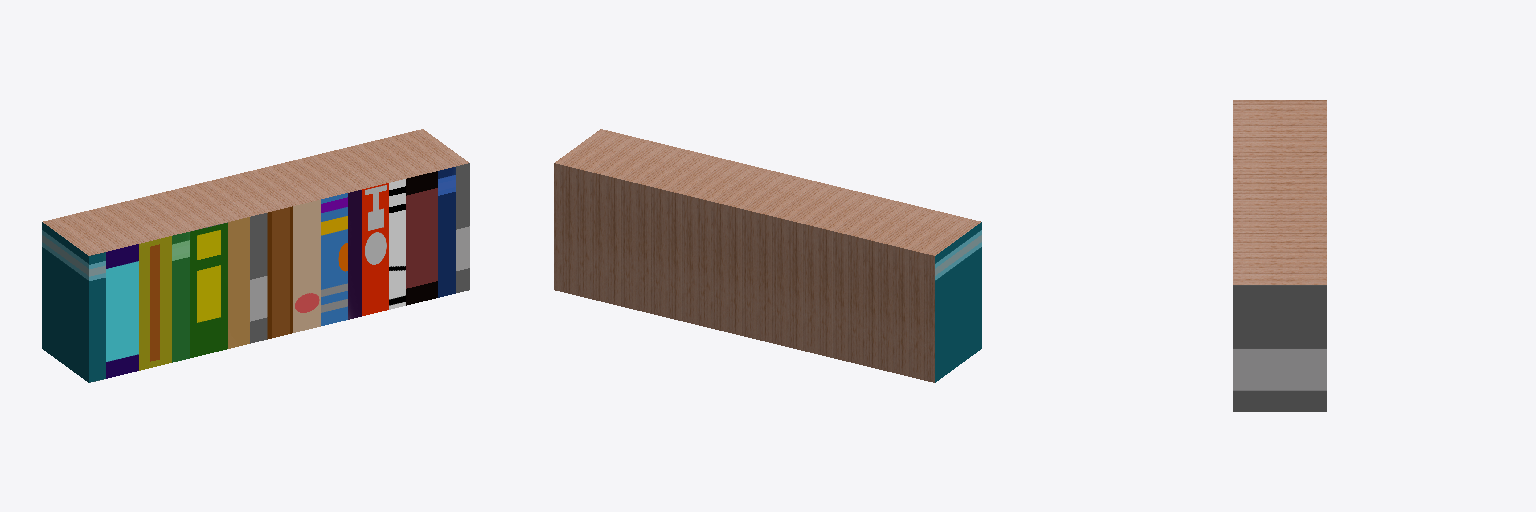
3 views of the same model, side by side, from view 1: azimuth 30°, elevation 25°; view 2: azimuth 150°, elevation 25°; view 3: azimuth 270°, elevation 25° (orthographic).
Parts seen in each view (by area): view 1: Book1_Cube; view 2: Book1_Cube; view 3: Book1_Cube.
Part boxes in pixels (x1,y1,x2,y2): Book1_Cube: (42, 129, 469, 382); Book1_Cube: (554, 129, 981, 382); Book1_Cube: (1233, 100, 1326, 411).
Bounding box in the file's own units: 1.4 × 0.445 × 0.2973.
Materials: 1 (1 with a texture image).